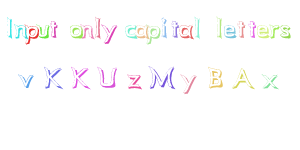A: (230, 65, 259, 92)
B: (204, 61, 226, 90)
I: (2, 14, 18, 44)
K: (39, 64, 66, 94), (67, 64, 94, 93)
M: (147, 61, 178, 94)
U: (95, 66, 120, 92)
a: (179, 24, 195, 43), (135, 20, 147, 42)
c: (122, 21, 136, 41)
e: (223, 20, 237, 40), (257, 20, 269, 43)
i: (158, 17, 170, 40)
l: (193, 11, 205, 41), (213, 14, 224, 40), (93, 16, 103, 40)
n: (13, 22, 28, 44), (83, 21, 94, 44)
o: (68, 20, 84, 40)
p: (25, 21, 40, 50), (146, 23, 161, 44)
r: (269, 21, 280, 40)
s: (280, 21, 294, 41)
t: (48, 19, 62, 40), (247, 16, 258, 41), (169, 19, 179, 41), (237, 17, 246, 41)
u: (37, 19, 49, 43)
v: (17, 64, 37, 94)
x: (261, 68, 284, 93)
y: (180, 69, 200, 98), (102, 21, 119, 47)
z: (124, 69, 145, 94)
